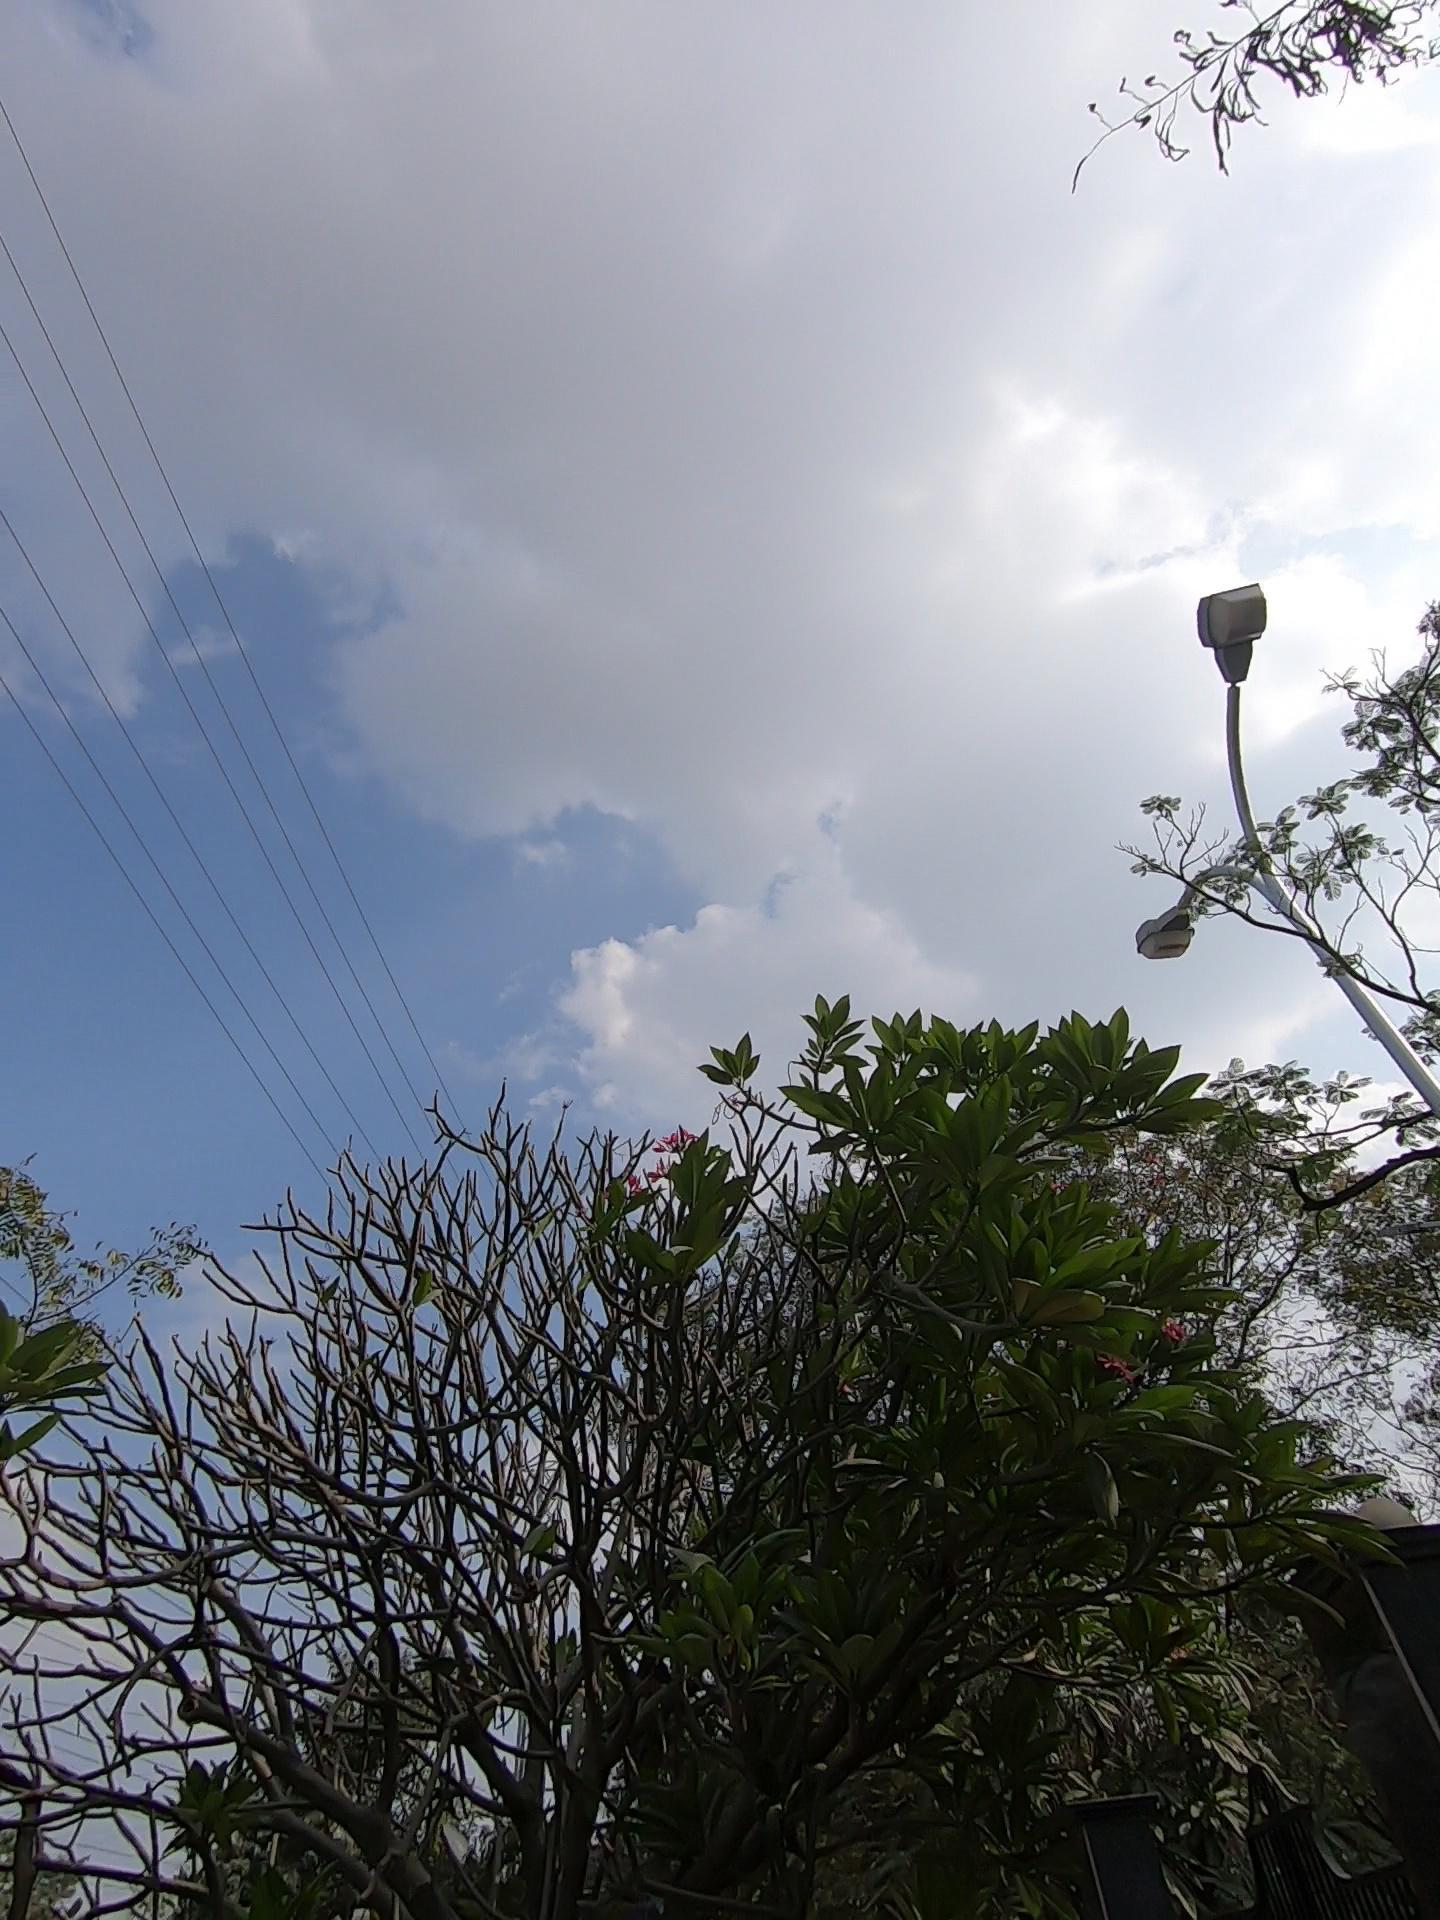off: (1100, 491, 1423, 1036)
